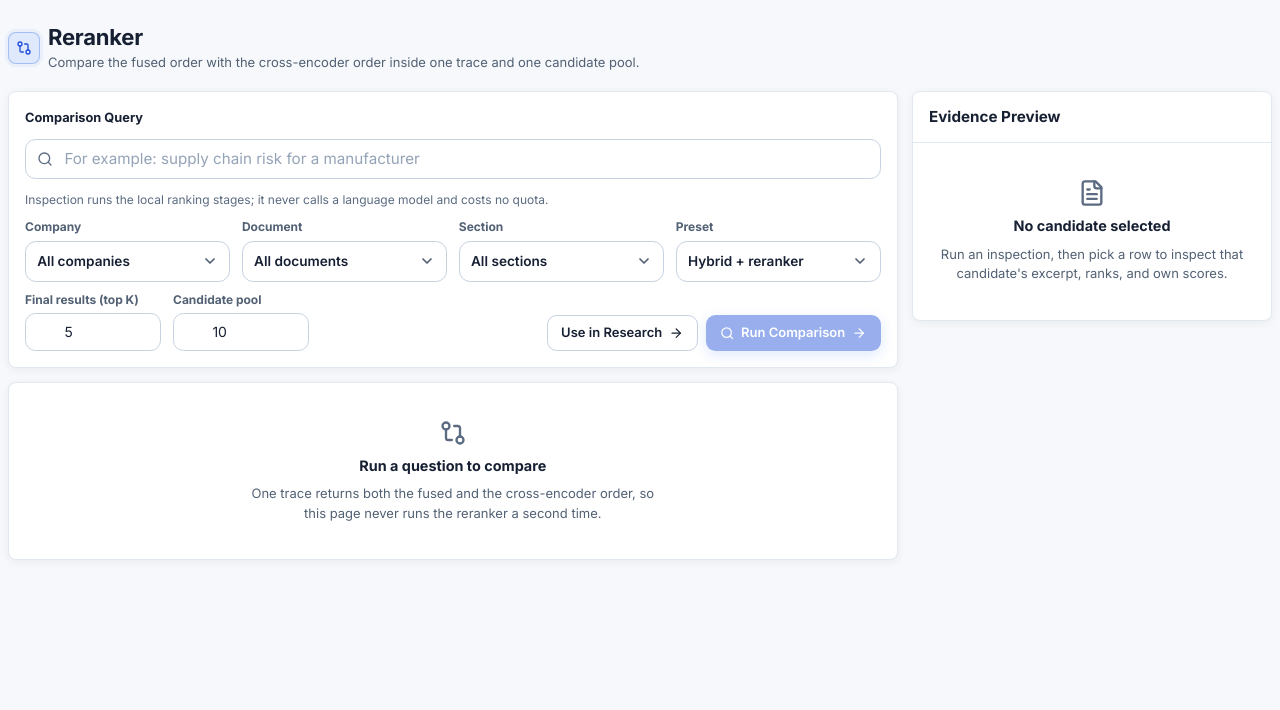
Scenario: RerankerPanel › keeps the draft separate from the submitted comparison
This screenshot has width=1280, height=710.
Type "supply chain risk" into the field labelled "Comparison Query" at {"x": 453, "y": 159}, box [25,139,881,179]
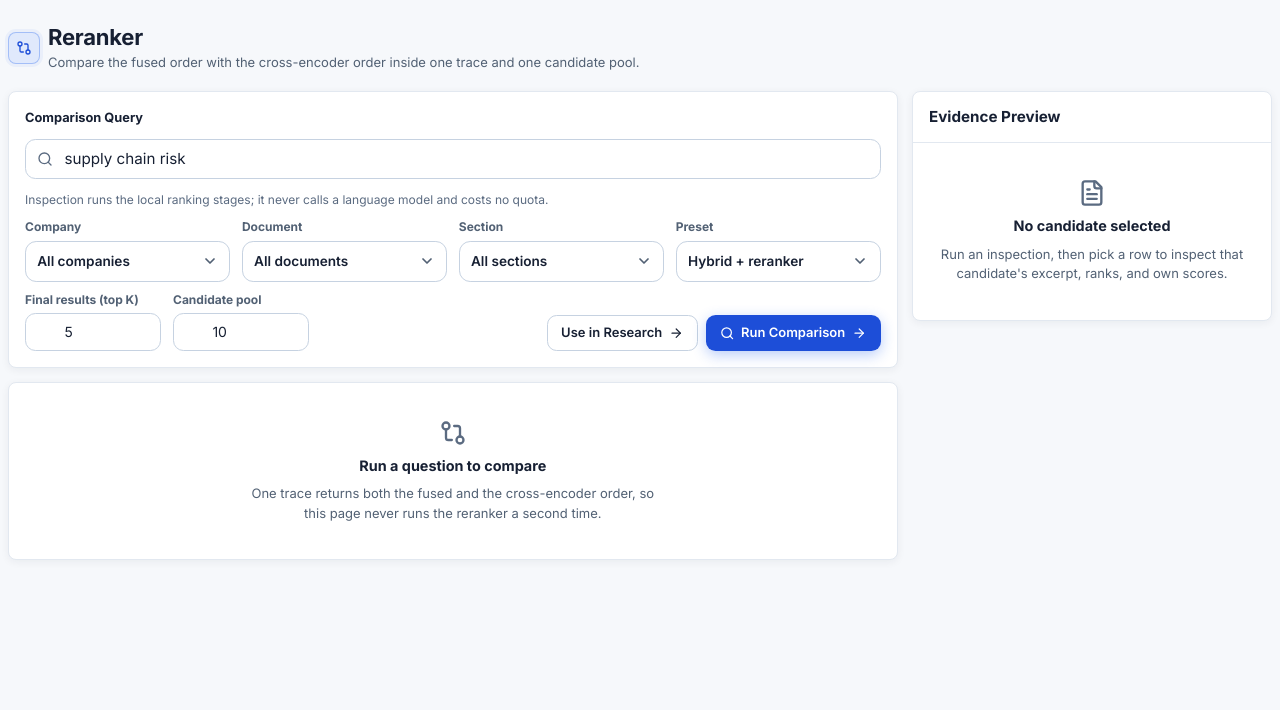
Submit the form labelled "Comparison Query", box [25,108,881,351]
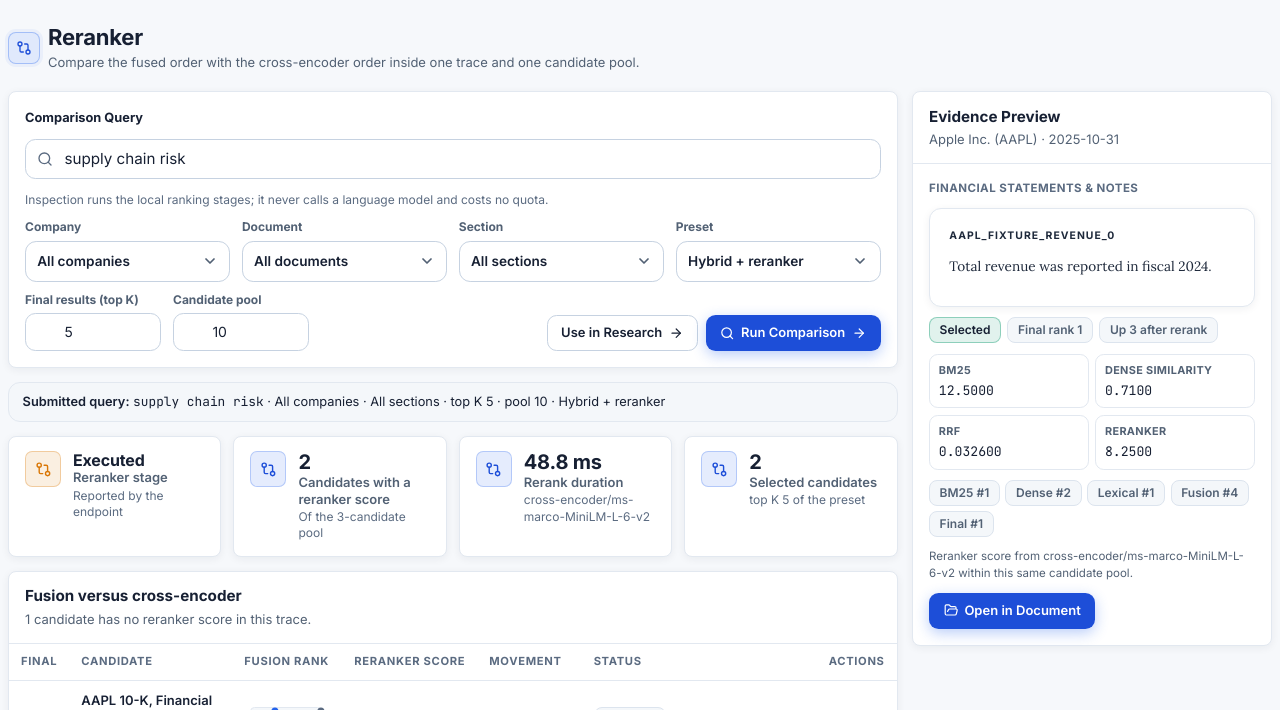
Replace the text in the field labelled "Comparison Query" with "a different comparison entirely" at {"x": 453, "y": 159}, box [25,139,881,179]
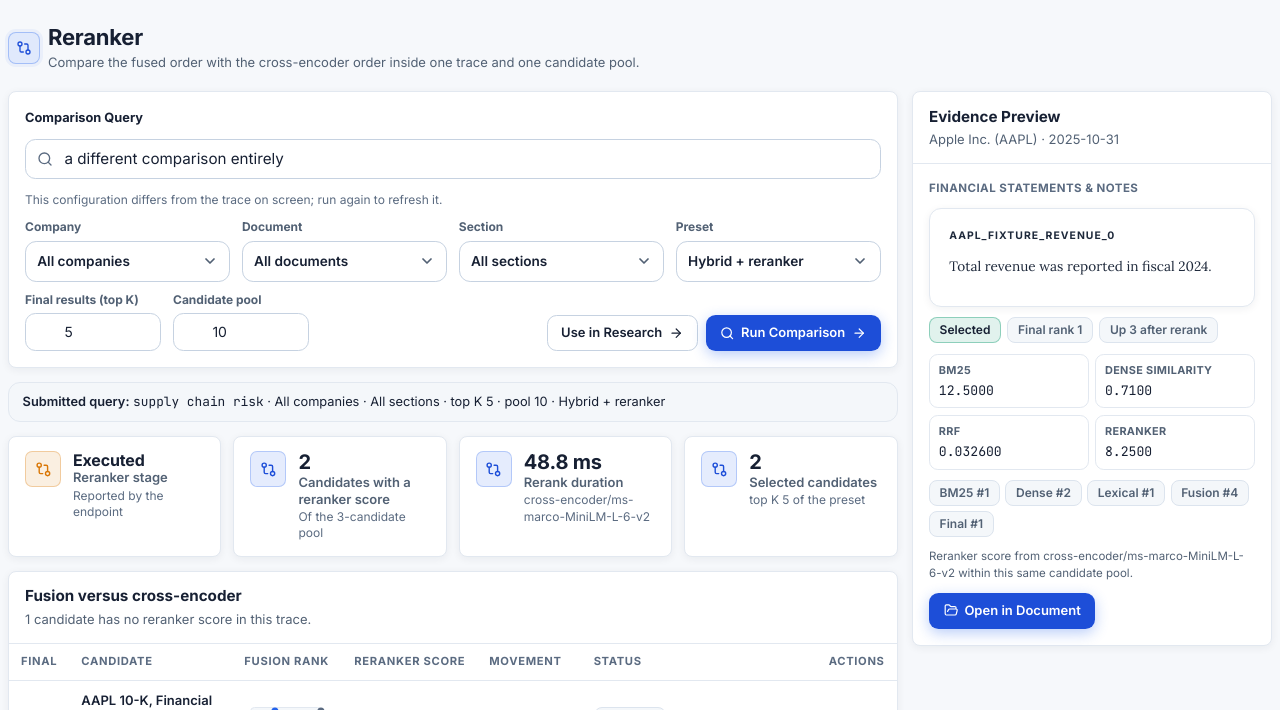
Check: the text "supply chain risk" is shown, box [133,393,264,410]
Check: the text "This configuration differs from the trace on screen" is shown, box [25,192,442,207]
